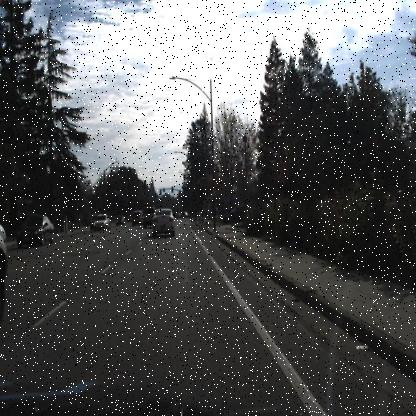car: (17, 214, 55, 247), (152, 206, 175, 236), (87, 212, 110, 228), (92, 212, 110, 232), (140, 205, 154, 228), (131, 206, 144, 227), (114, 214, 126, 226)
